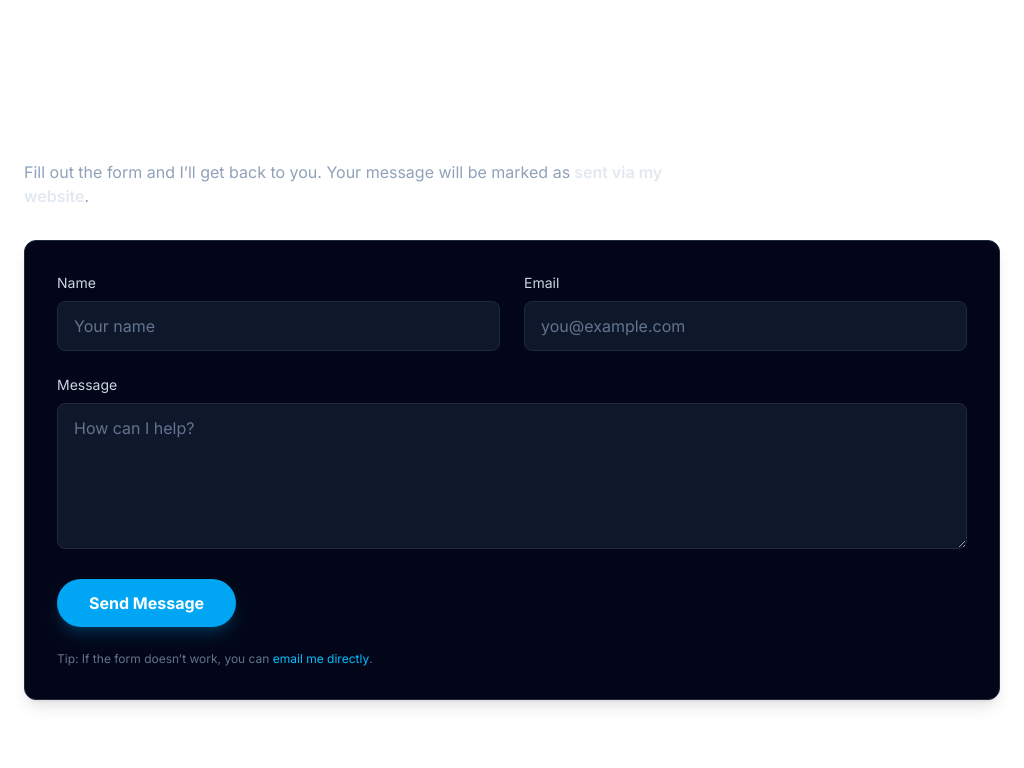
Test: ContactSection › shows a validation error for an invalid email address
Type "Jane Doe" into the field labelled "Name".
click(278, 326); type("Jane Doe")  # box 57,301 -> 500,351
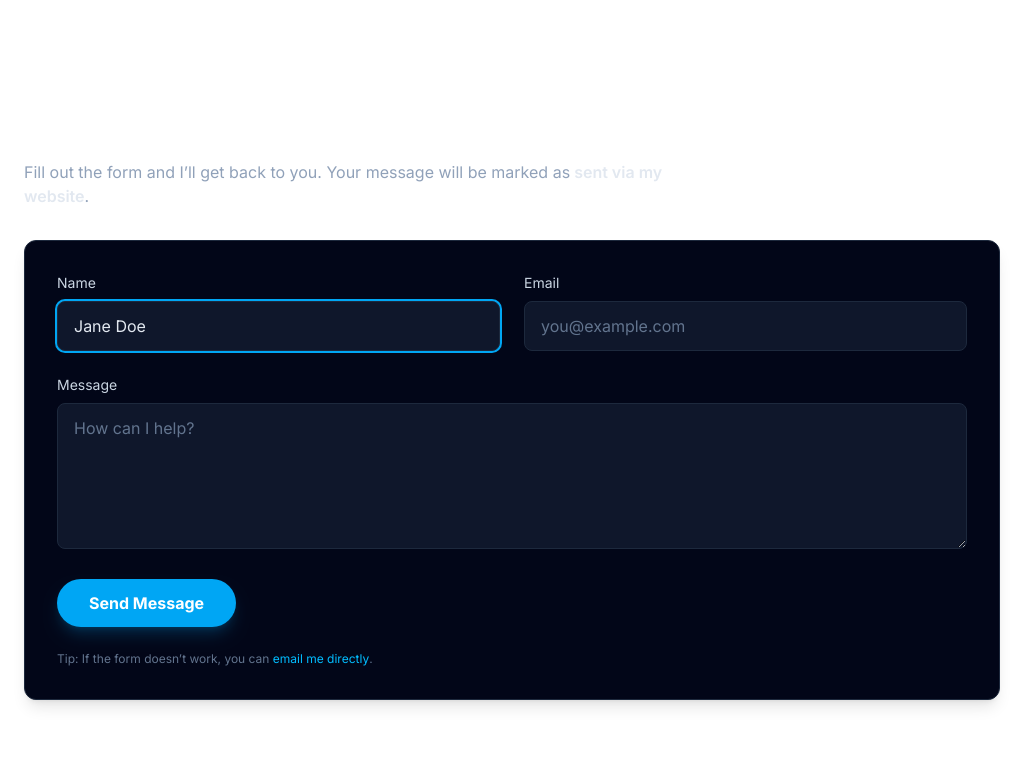
Type "not-an-email" into the field labelled "Email".
click(746, 326); type("not-an-email")  # box 524,301 -> 967,351
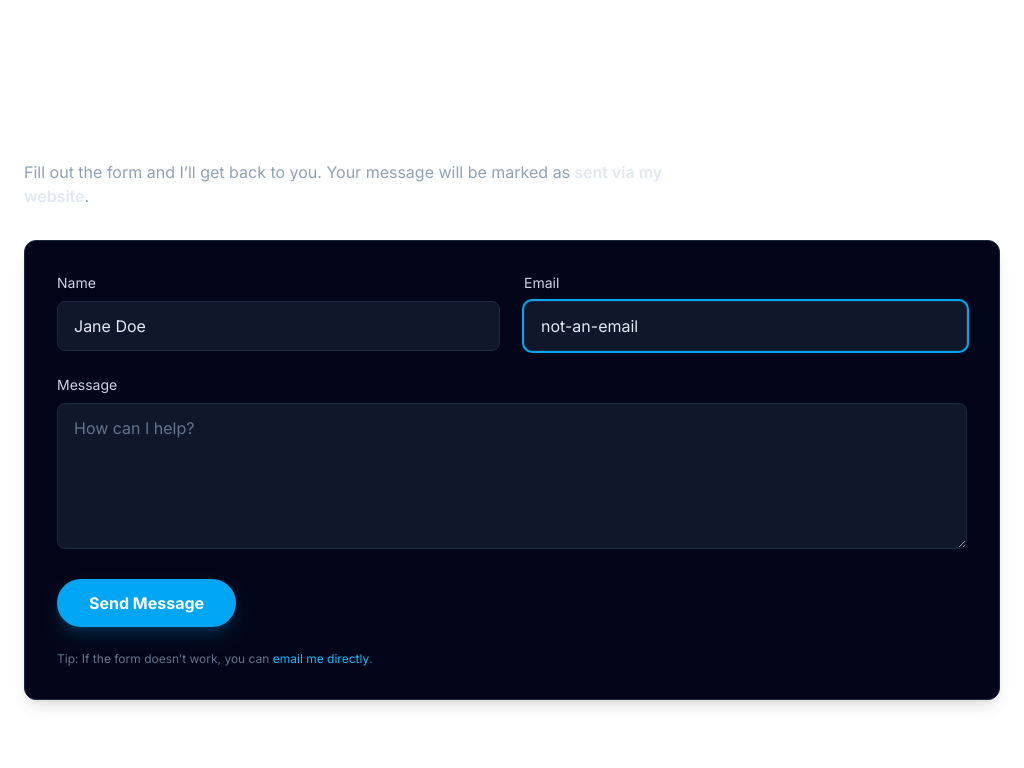
Type "Hello, this is a long enough message." into the text box labelled "Message".
click(512, 476); type("Hello, this is a long enough message.")  # box 57,403 -> 967,549
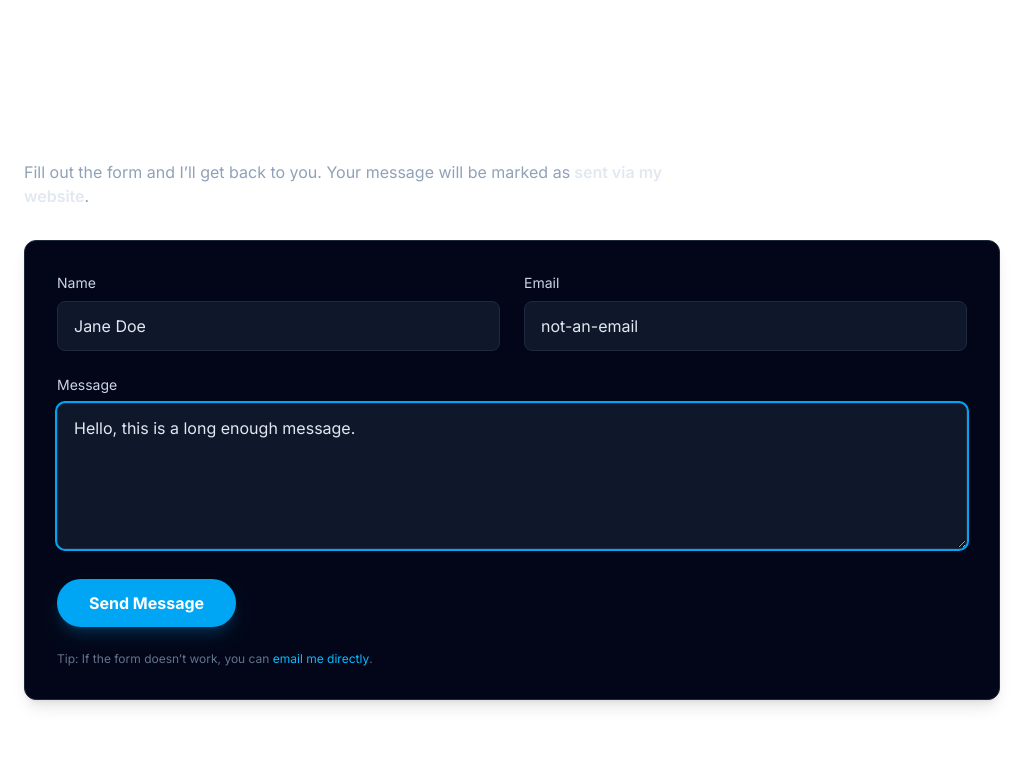
Click the button "Send Message".
click(147, 603)  # box 57,579 -> 236,627
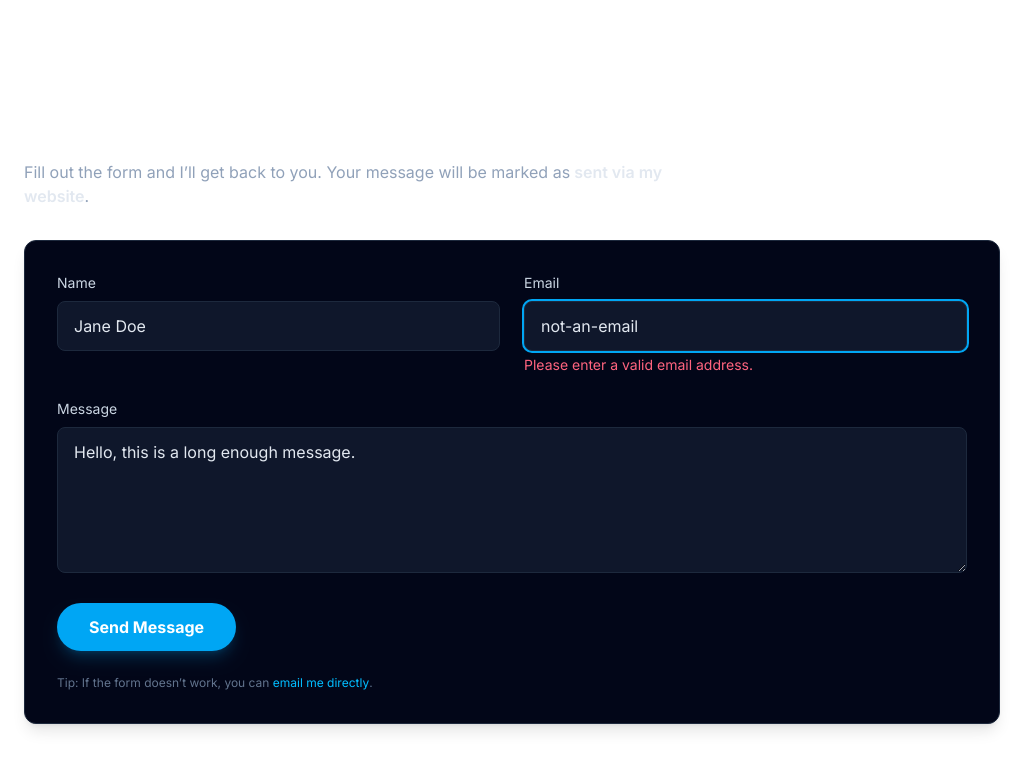
Expected: the text "Please enter a valid email address." is shown, 524,356 -> 753,373
